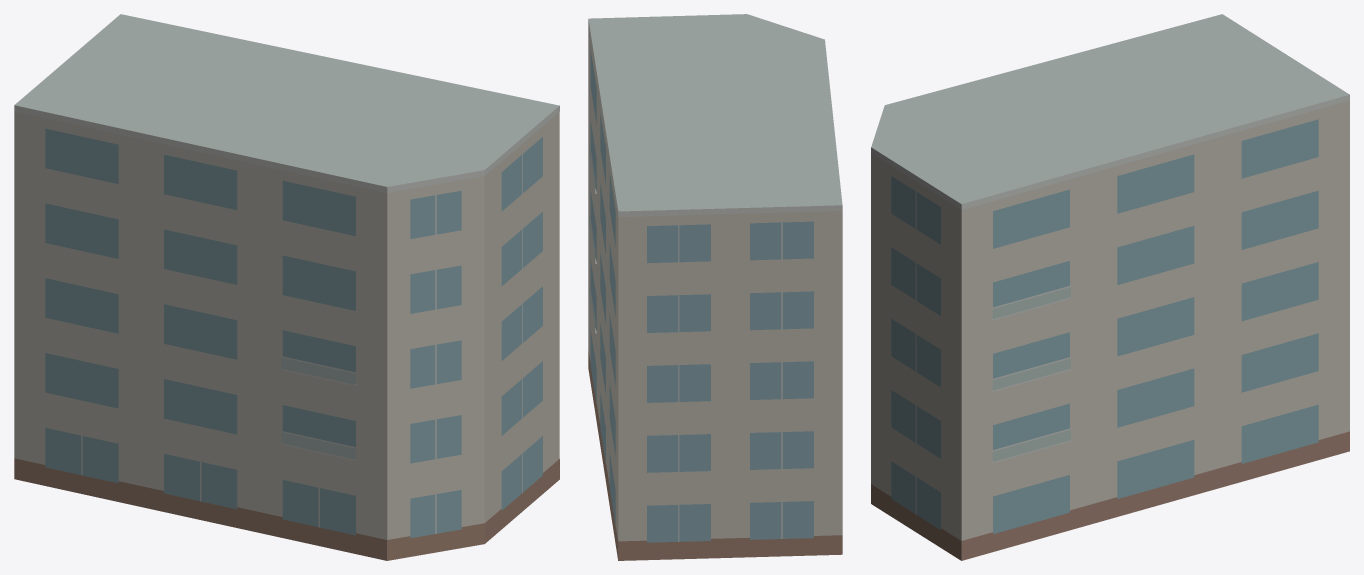
File: survey-upis-32770044.glb
3 renders of one model, left to right at view 1: azimuth 30°, elevation 25°; view 2: azimuth 150°, elevation 25°; view 3: azimuth 270°, elevation 25°, orthographic. The views are drawn at different scales.
Parts seen in each view (by area): view 1: survey-upis-32770044.tmp; view 2: survey-upis-32770044.tmp; view 3: survey-upis-32770044.tmp.
Part boxes in pixels (x1,y1,x2,y2): survey-upis-32770044.tmp: [14, 14, 559, 560]; survey-upis-32770044.tmp: [588, 14, 842, 560]; survey-upis-32770044.tmp: [871, 14, 1349, 560].
Size of the model in its own units: 17.34 by 15.15 by 18.44.
